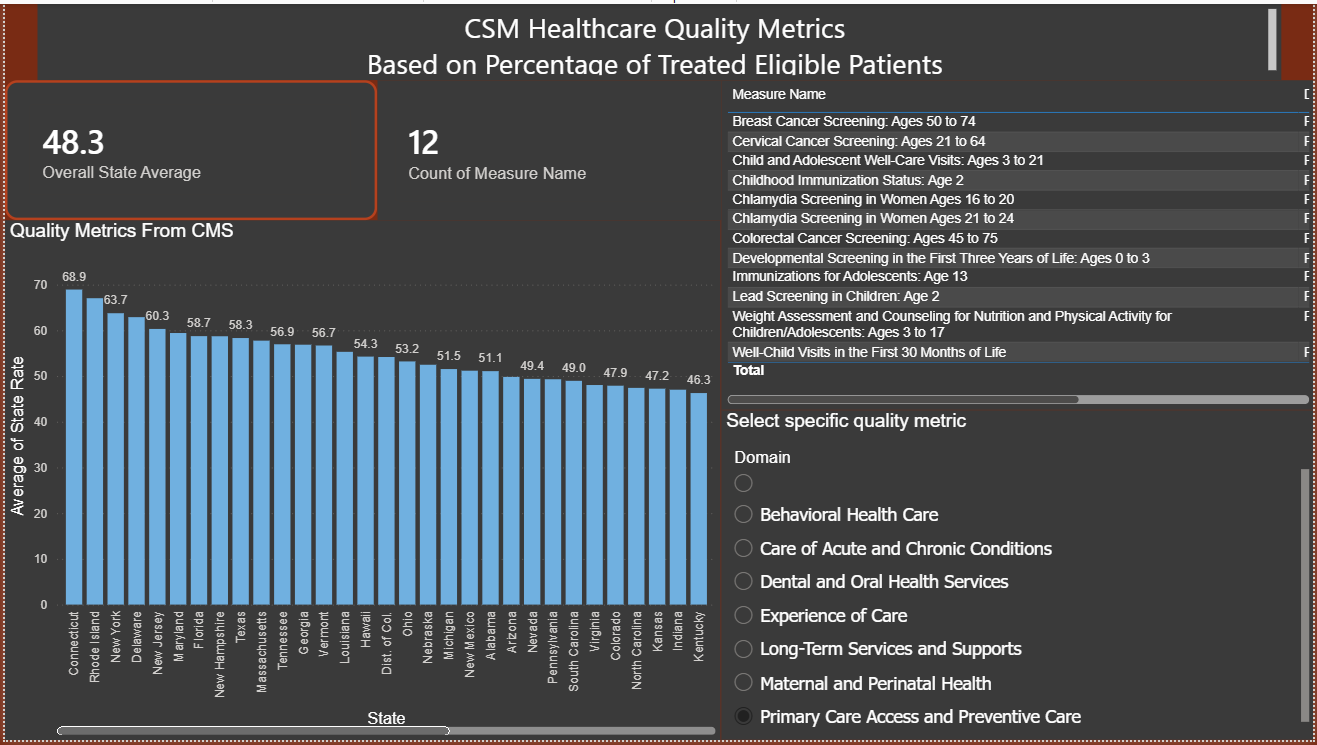

The page's visual inventory and layout, read from the dashboard file:
{"tool":"powerbi","page":{"name":"Dashboard","canvas":[1280,720],"ordinal":0},"visuals":[{"type":"clusteredColumnChart","title":"Quality Metrics From CMS","fields":{"Category":["2024-child-and-adult-health-care-quality-measures.State"],"Y":["Avg(2024-child-and-adult-health-care-quality-measures.State Rate)"]},"box":[0,211.6,700.3,508.6],"z":0},{"type":"slicer","title":"Select specific quality metric","fields":{"Values":["2024-child-and-adult-health-care-quality-measures.Domain"]},"box":[700.3,398,580,322],"z":1000},{"type":"cardVisual","fields":{"Data":["Avg(2024-child-and-adult-health-care-quality-measures.State Rate)"]},"box":[0,74.6,364,137.1],"z":2000},{"type":"cardVisual","fields":{"Data":["Count(2024-child-and-adult-health-care-quality-measures.Measure Name)"]},"box":[364,74.6,336.3,136.8],"z":3000},{"type":"tableEx","fields":{"Values":["2024-child-and-adult-health-care-quality-measures.Measure Name","2024-child-and-adult-health-care-quality-measures.Domain","Sum(2024-child-and-adult-health-care-quality-measures.State Rate)"]},"box":[700.3,74.6,580,322],"z":4000},{"type":"textbox","box":[31.8,0,1216.7,74.6],"z":4001}]}

Visuals, with their boxes in screenshot pixels (x1, y1, x2, y2), scaled from the page's 1280x720 canvas onto the 1317x745 screenshot:
"Quality Metrics From CMS" clusteredColumnChart: bbox=[0, 219, 721, 744]
"Select specific quality metric" slicer: bbox=[721, 412, 1316, 744]
cardVisual - Avg(2024-child-and-adult-health-care-quality-measures.State Rate): bbox=[0, 77, 375, 219]
cardVisual - Count(2024-child-and-adult-health-care-quality-measures.Measure Name): bbox=[375, 77, 721, 219]
tableEx - 2024-child-and-adult-health-care-quality-measures.Measure Name x 2024-child-and-adult-health-care-quality-measures.Domain: bbox=[721, 77, 1316, 410]
textbox: bbox=[33, 0, 1285, 77]
